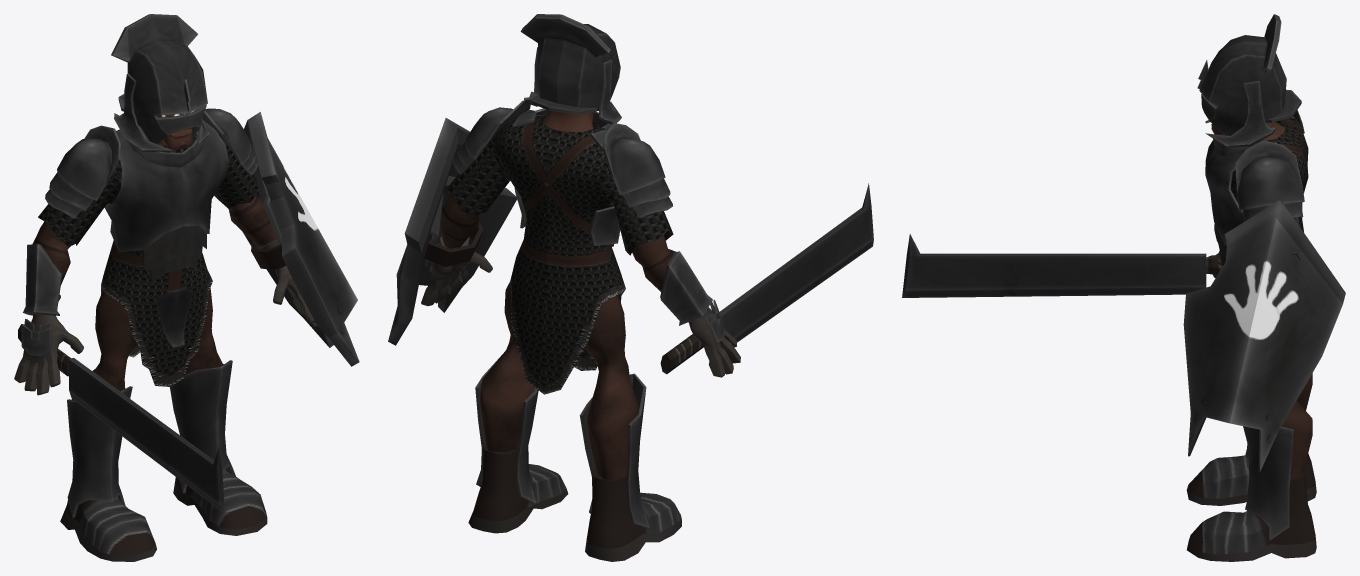
File: urukHai.obj
The picture shows the model from 3 angles, left to right: view 1: azimuth 30°, elevation 25°; view 2: azimuth 150°, elevation 25°; view 3: azimuth 270°, elevation 25°; orthographic projection. The views are drawn at different scales.
Visible parts, largest first — view 1: UrukExport; view 2: UrukExport; view 3: UrukExport.
Boxes of the visible parts, x1=… form: UrukExport: x1=14, y1=14, x2=359, y2=561; UrukExport: x1=388, y1=14, x2=873, y2=561; UrukExport: x1=902, y1=14, x2=1345, y2=561.
Size of the model in its own units: 3.54 by 5.12 by 4.12.
Materials: 1 (1 with a texture image).
